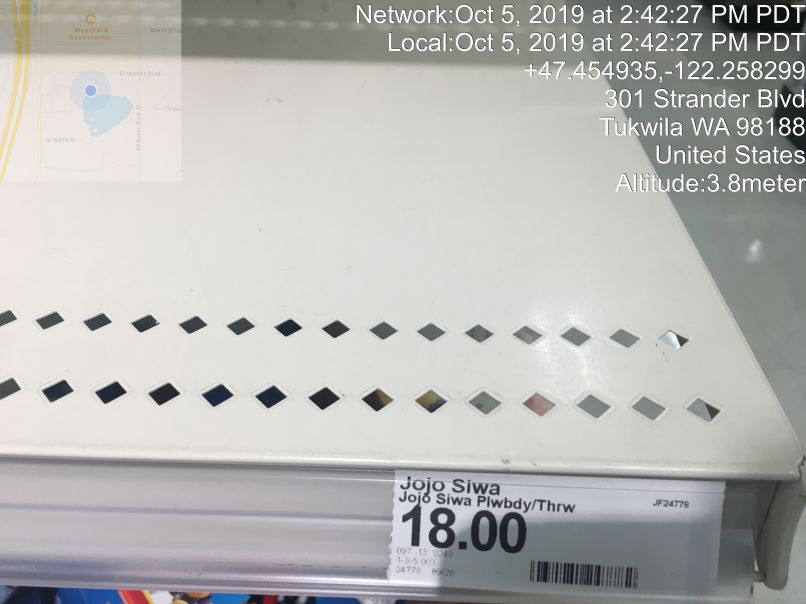Label: (386, 458, 723, 604)
Location: (592, 83, 806, 173)
Time: (349, 3, 806, 56)
Void: (30, 27, 776, 420)
